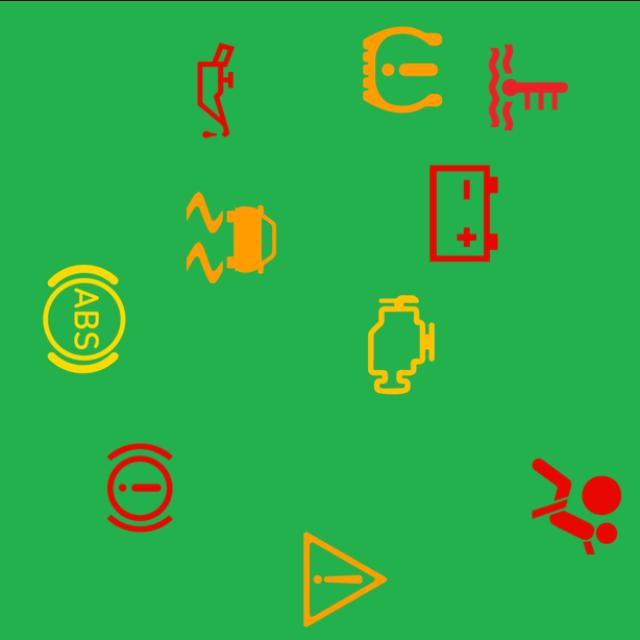Anti Lock Braking System: (25, 258, 144, 378)
Braking System Issue: (80, 428, 199, 546)
Charging System Issue: (404, 153, 524, 272)
Check Engine: (342, 284, 461, 404)
Electronic Stability Problem -ESP-: (172, 177, 291, 296)
Engine Overheating Warning Light: (469, 27, 588, 146)
Low Engine Oil Warning Light: (157, 30, 276, 149)
Low Tire Pressure Warning Light: (343, 10, 462, 128)
Master warning light: (286, 519, 404, 638)
SRS-Airbag: (517, 446, 636, 565)
